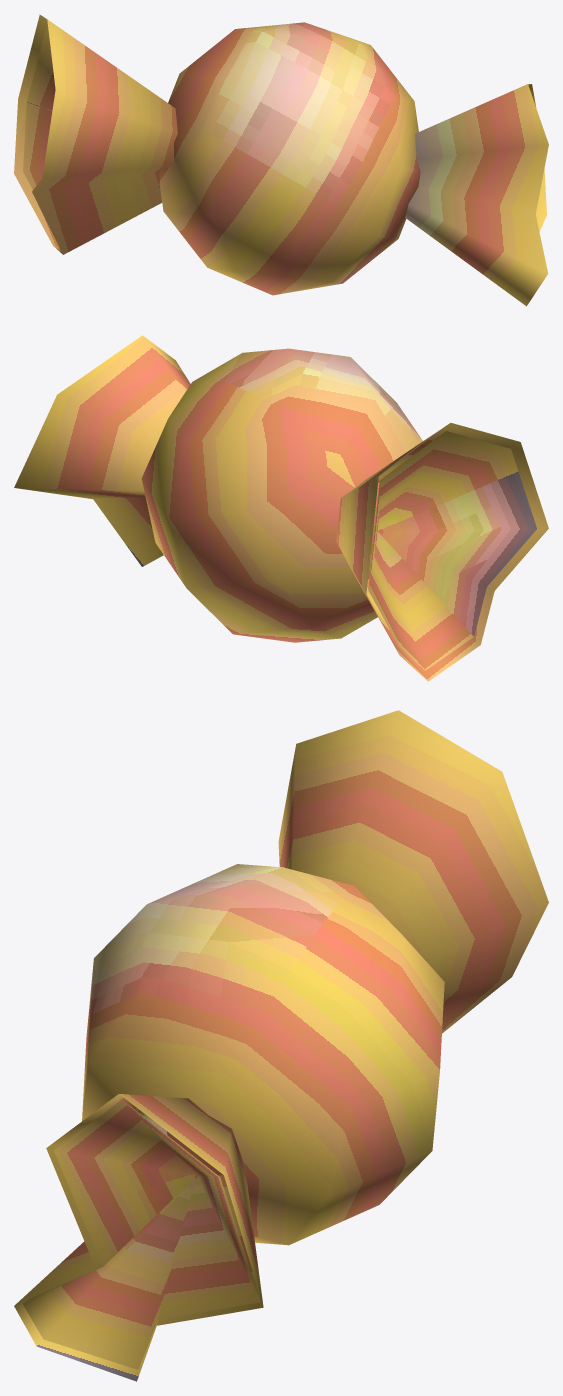
File: candy.glb
The picture shows the model from 3 angles, top to bottom: view 1: azimuth 30°, elevation 25°; view 2: azimuth 150°, elevation 25°; view 3: azimuth 270°, elevation 25°; orthographic projection. The views are drawn at different scales.
Parts seen in each view (by area): view 1: VisualMaterial0; view 2: VisualMaterial0; view 3: VisualMaterial0.
Boxes of the visible parts, <box> form: VisualMaterial0: <box>14,14,548,306</box>; VisualMaterial0: <box>14,335,548,681</box>; VisualMaterial0: <box>14,710,548,1381</box>.
Bounding box in the file's own units: 17.48 × 9.84 × 11.56.
Materials: 1 (1 with a texture image).
